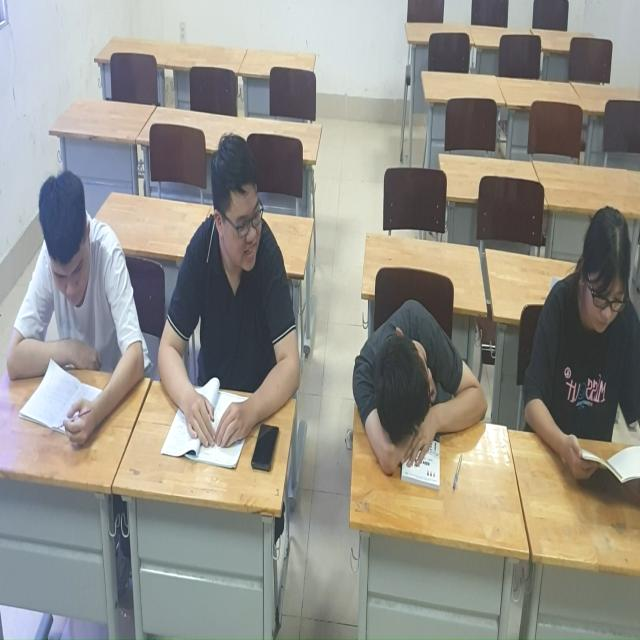read: (155, 125, 306, 472), (7, 156, 156, 438), (514, 204, 640, 502)
sleep: (344, 276, 494, 505)
